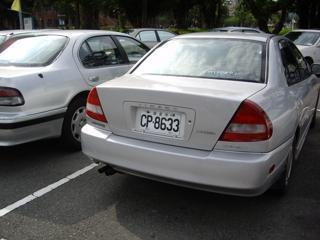plate: (138, 106, 181, 138)
